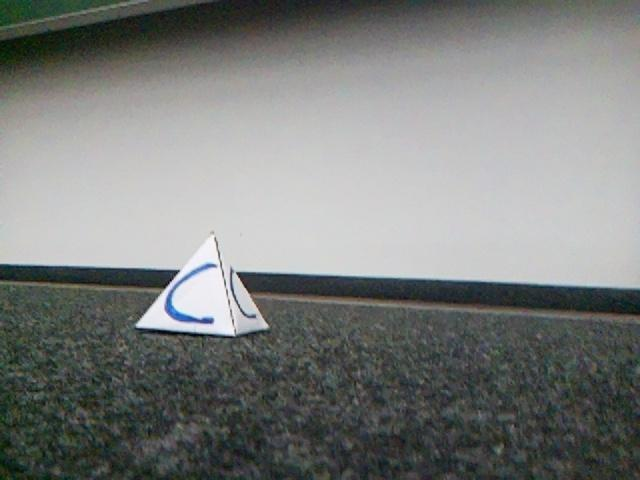C: (136, 233, 268, 338)
